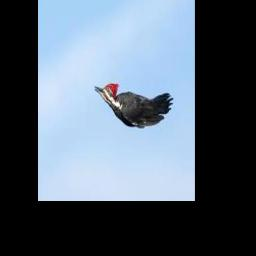Woodpecker: (95, 83, 175, 127)
